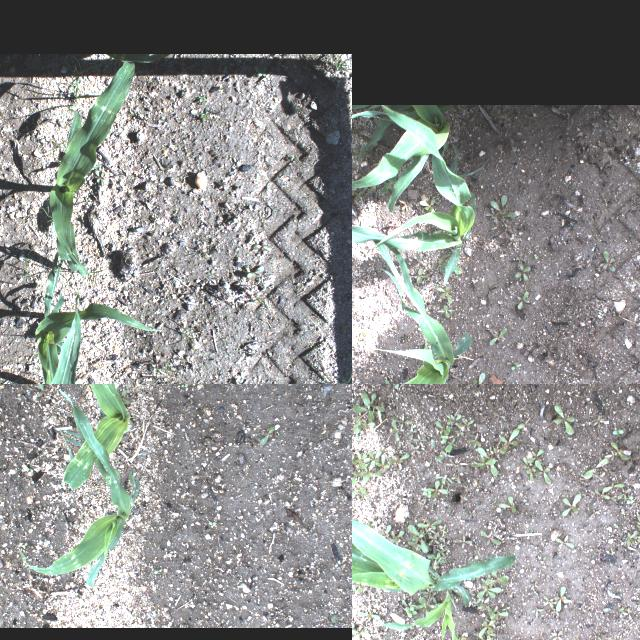crop: (352, 105, 487, 285), (18, 387, 138, 587), (352, 224, 471, 384), (49, 61, 133, 276), (32, 246, 161, 384), (352, 503, 515, 608), (352, 105, 452, 213), (57, 384, 133, 490), (381, 590, 460, 640), (366, 105, 378, 113), (352, 104, 368, 107)
weed: (352, 391, 386, 433), (483, 194, 515, 223), (414, 587, 442, 619), (498, 422, 526, 453), (469, 446, 497, 476), (56, 77, 78, 115), (176, 326, 202, 354), (582, 453, 610, 479), (408, 525, 434, 553), (552, 404, 574, 434), (322, 53, 352, 74), (601, 441, 631, 461), (44, 136, 70, 156), (624, 515, 640, 546), (352, 472, 370, 499), (561, 493, 581, 517), (423, 480, 449, 498), (596, 250, 616, 272), (526, 447, 544, 471), (534, 460, 552, 484), (476, 584, 500, 602), (521, 456, 537, 482), (322, 371, 352, 384), (485, 568, 509, 584), (374, 453, 390, 477), (198, 108, 224, 122), (496, 496, 516, 514), (392, 412, 412, 430), (362, 450, 382, 468), (355, 460, 375, 478), (259, 424, 275, 446), (479, 530, 501, 546), (486, 606, 508, 622), (352, 169, 362, 202), (489, 328, 507, 346), (434, 286, 452, 304), (360, 135, 378, 153), (426, 553, 446, 569), (554, 586, 566, 612), (358, 608, 380, 622), (37, 204, 54, 222), (352, 623, 370, 640), (514, 263, 530, 281), (378, 177, 396, 193), (478, 620, 496, 636), (454, 533, 472, 549), (555, 535, 575, 549), (352, 450, 366, 470), (436, 264, 462, 274), (416, 519, 442, 529), (114, 388, 130, 404), (466, 432, 482, 448), (388, 529, 404, 545), (386, 452, 409, 463), (244, 264, 262, 278), (516, 291, 530, 309), (436, 304, 454, 318), (251, 239, 271, 251), (456, 418, 476, 430), (601, 482, 625, 492), (92, 169, 105, 187), (441, 426, 454, 444), (414, 268, 428, 284), (419, 199, 435, 213), (446, 413, 462, 427), (443, 437, 457, 453), (434, 419, 448, 435), (405, 604, 419, 620), (390, 419, 400, 441), (412, 433, 426, 447), (617, 488, 633, 500), (594, 488, 610, 500), (35, 384, 49, 397), (432, 224, 446, 236), (530, 606, 544, 618), (428, 532, 440, 546), (378, 524, 392, 536), (490, 108, 510, 116), (542, 594, 552, 610), (622, 606, 632, 622), (433, 476, 452, 484), (548, 630, 563, 640), (438, 254, 450, 266), (352, 146, 368, 155), (606, 113, 620, 123), (409, 442, 419, 456), (440, 536, 450, 550), (475, 631, 490, 640), (352, 580, 361, 595), (506, 237, 518, 247), (502, 221, 512, 233), (610, 428, 624, 436), (485, 630, 496, 640), (398, 200, 407, 212), (358, 185, 367, 195), (510, 138, 516, 152), (462, 379, 478, 384), (477, 373, 484, 384), (379, 379, 393, 384), (359, 330, 366, 340), (491, 223, 499, 231), (424, 342, 432, 350), (514, 220, 524, 226), (509, 364, 518, 370), (455, 636, 468, 640), (505, 361, 517, 365), (368, 186, 376, 192), (533, 254, 537, 260), (208, 522, 216, 524)
